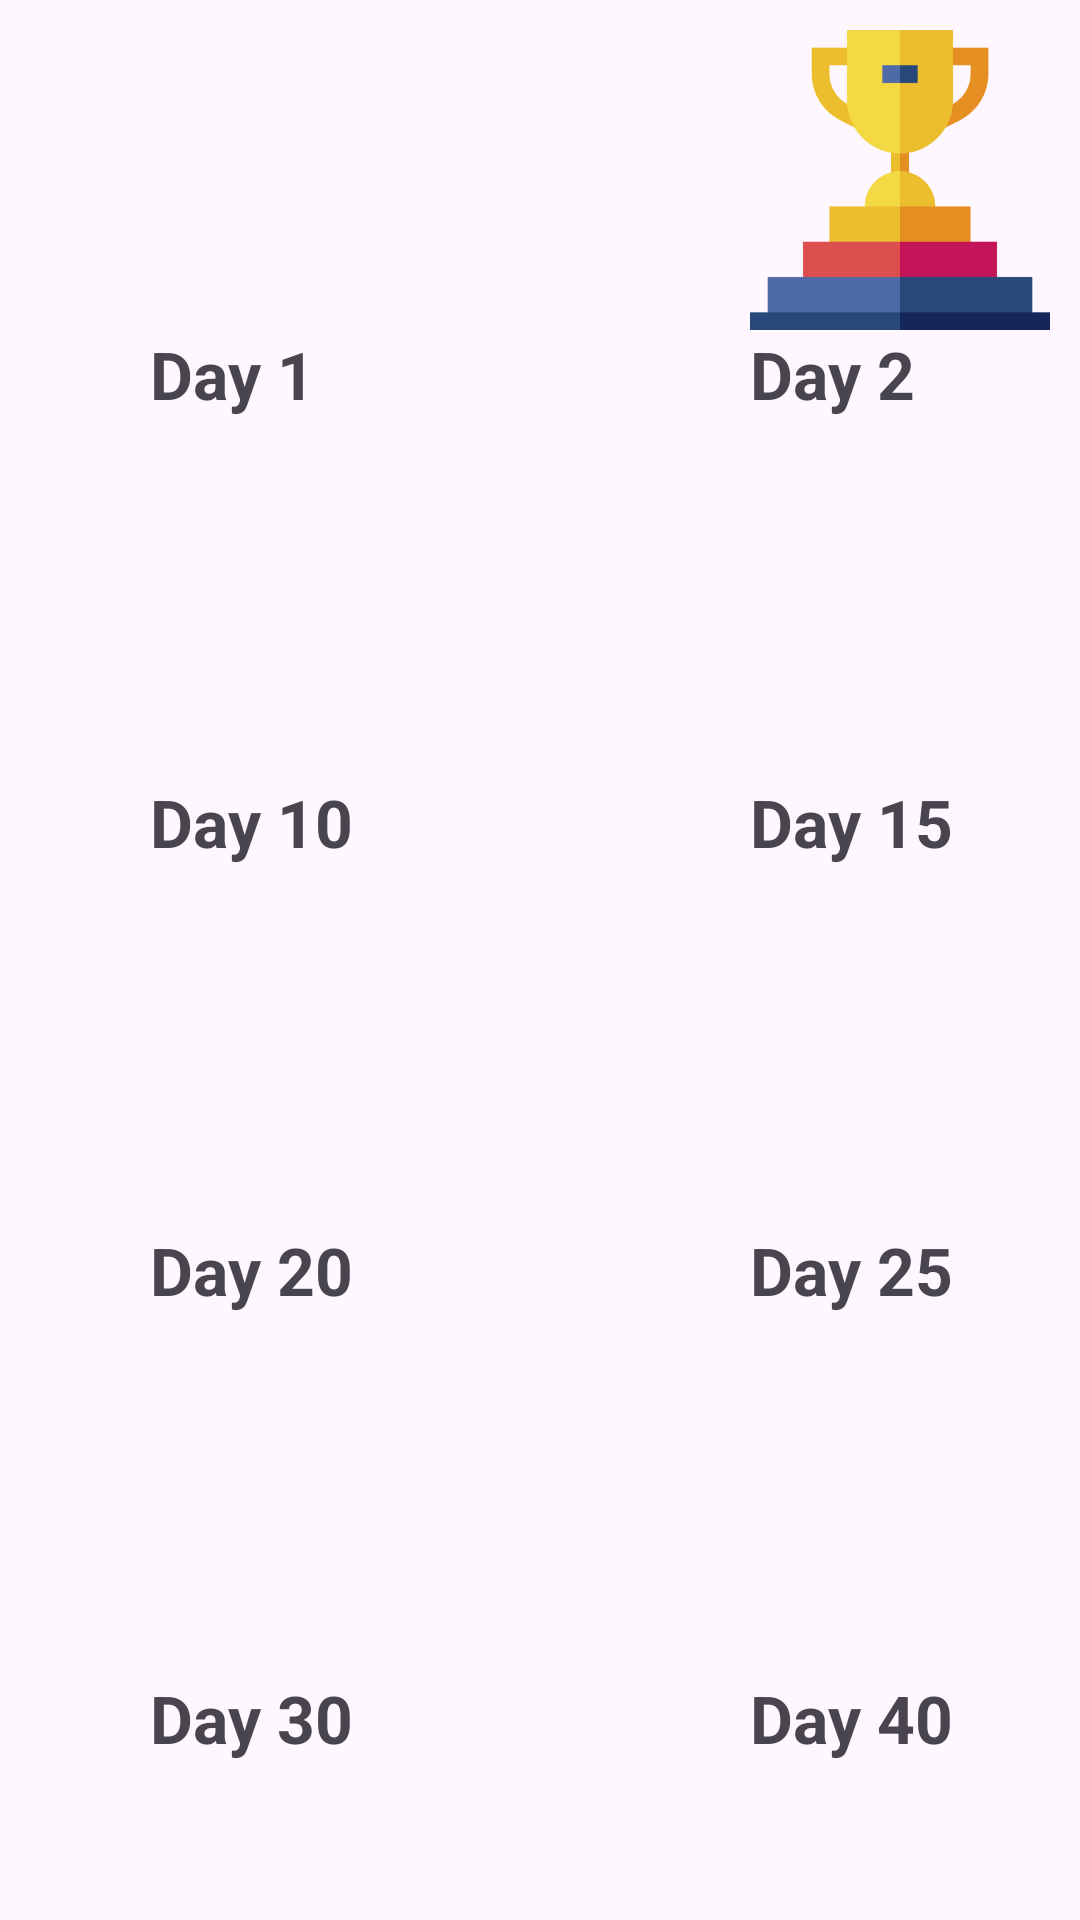

Named icons in this screenshot (1080x1920) and their centers, [x,y]:
achievement: [900,180]
